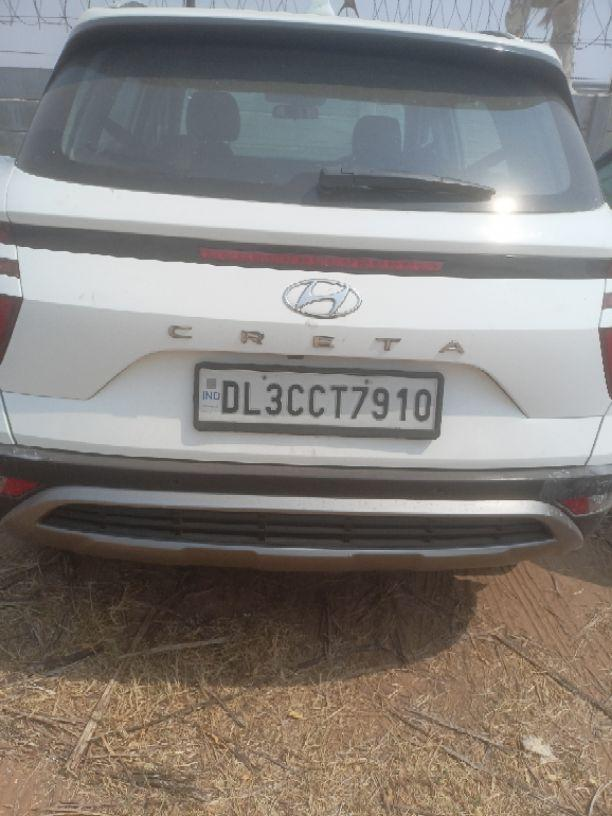license_plate: (192, 360, 444, 439)
